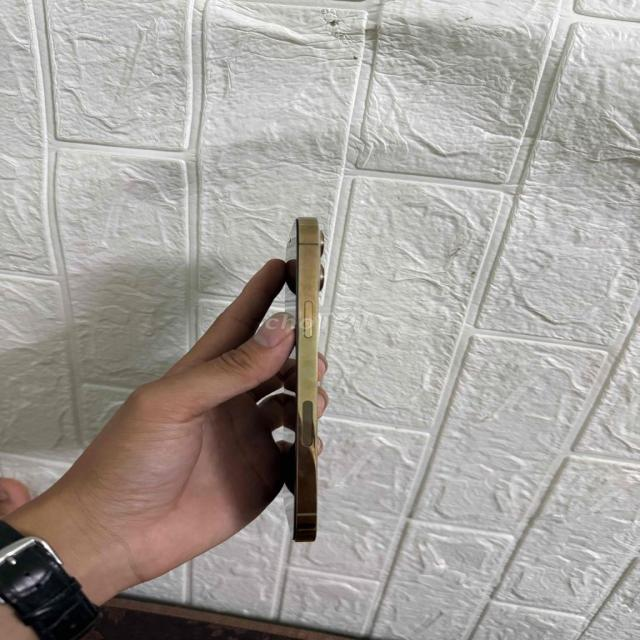gen_12_13: (267, 208, 384, 556)
